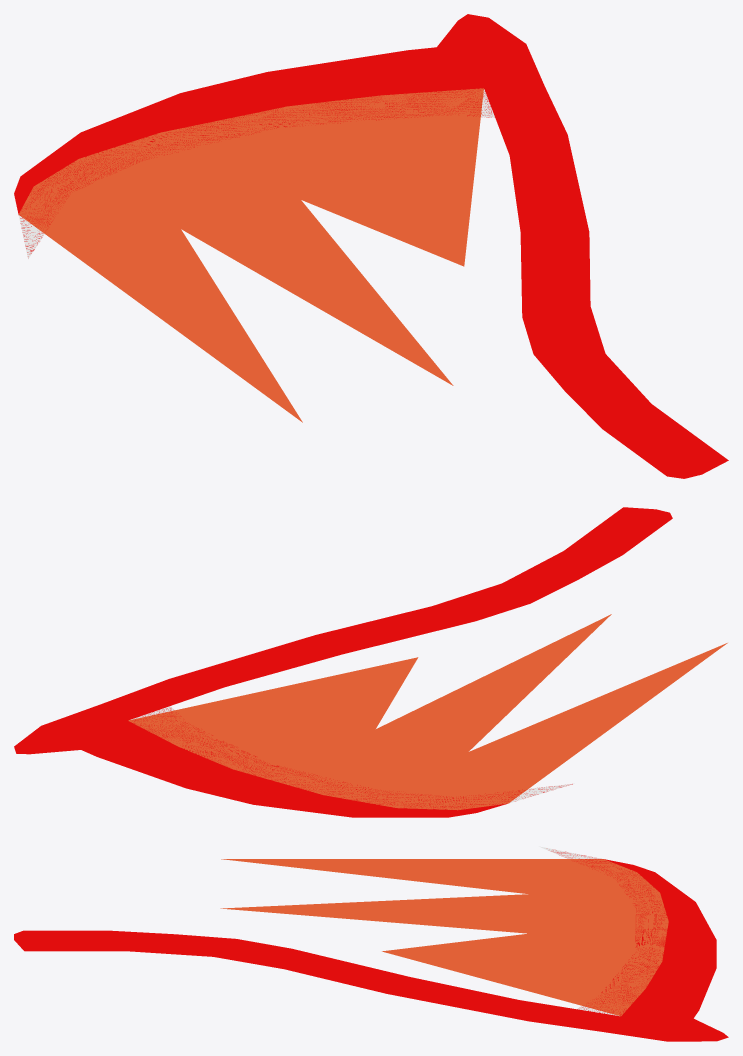
Rendered from Scyth2.dae.
3 renders of one model, top to bottom at view 1: azimuth 30°, elevation 25°; view 2: azimuth 150°, elevation 25°; view 3: azimuth 270°, elevation 25°, orthographic. The views are drawn at different scales.
Parts seen in each view (by area): view 1: SketchUp (×3); view 2: SketchUp (×3); view 3: SketchUp (×3).
Boxes of the visible parts, bbox=[...] form: SketchUp (×3): bbox=[14, 14, 728, 478]; SketchUp (×3): bbox=[14, 507, 727, 817]; SketchUp (×3): bbox=[14, 859, 728, 1041].
Bounding box in the file's own units: 119 × 184 × 0.
